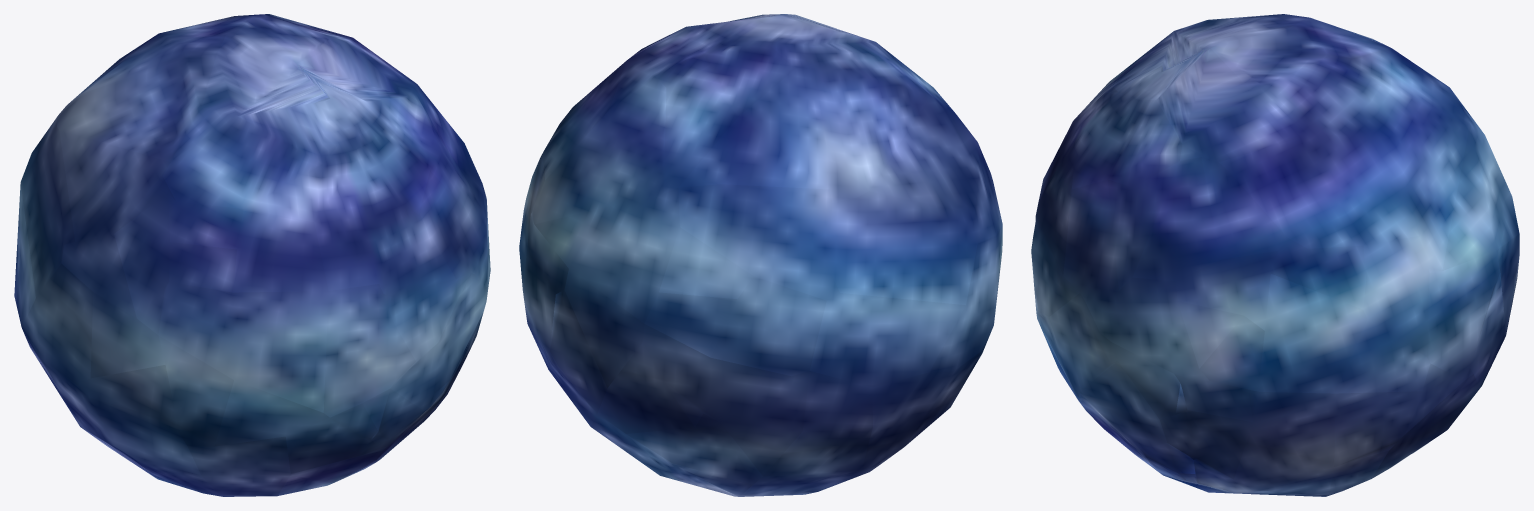
The model's file is planet_11-far.glb.
3 renders of one model, left to right at view 1: azimuth 30°, elevation 25°; view 2: azimuth 150°, elevation 25°; view 3: azimuth 270°, elevation 25°, orthographic.
Visible parts, largest first — view 1: Mesh_0.001; view 2: Mesh_0.001; view 3: Mesh_0.001.
Part boxes in pixels (x1,y1,x2,y2): Mesh_0.001: (14, 14, 490, 496); Mesh_0.001: (519, 14, 1002, 496); Mesh_0.001: (1031, 14, 1519, 496).
Bounding box in the file's own units: 1.89 × 1.9 × 1.89.
Materials: 1 (1 with a texture image).
